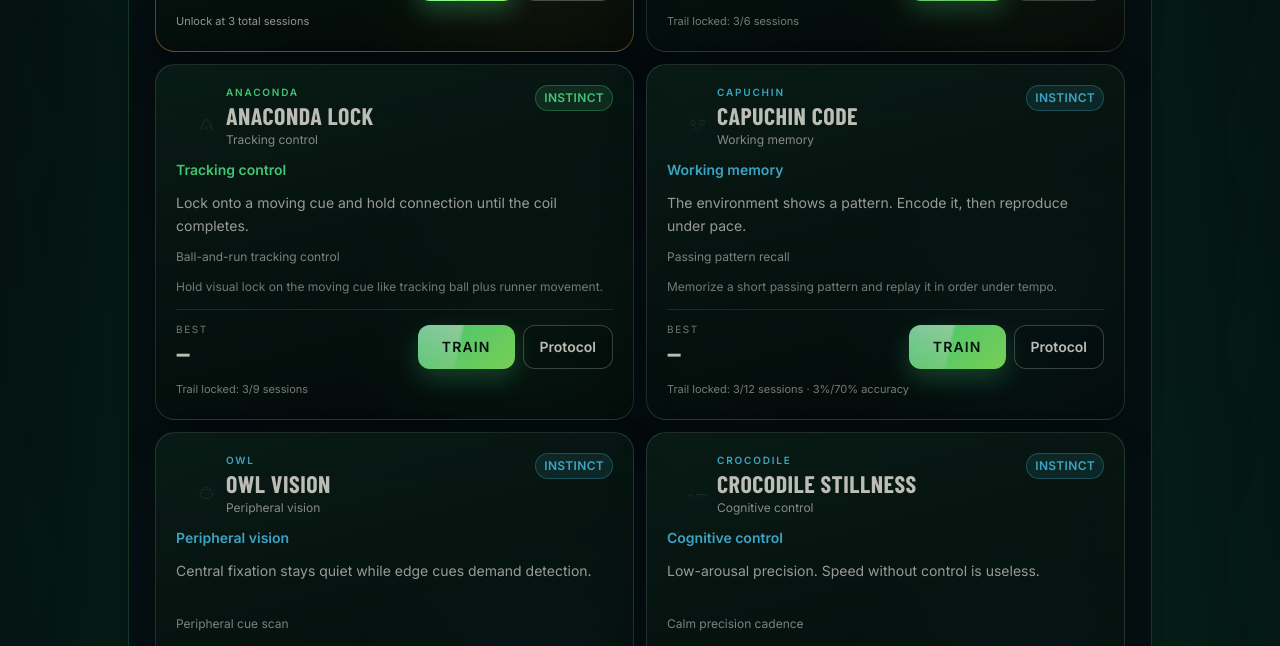
Test: App integration flow › runs Sequence Memory preview then accepts correct ordered input
(page scrolled)
Click the button "TRAIN" below "Passing pattern recall" at (957, 347), box [909,325,1006,369]
Wait 3980 ms
(page scrolled)
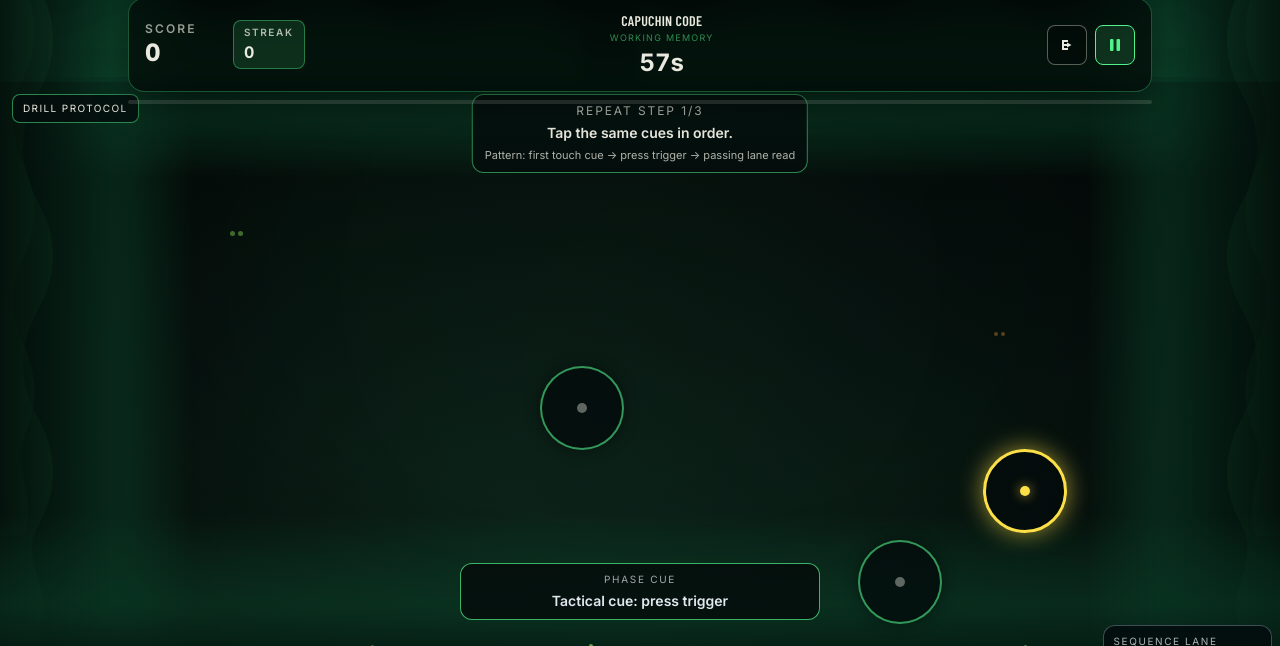
Now the button named "pause game" is shown, box [1095,25,1135,65]
Now the text "Watch sequence" is shown, box [576,103,704,118]
Now the text "Tap the same cues in order." is shown, box [547,124,733,141]
Click the 2nd button named "Sequence target" at (1025, 491), box [983,449,1067,533]
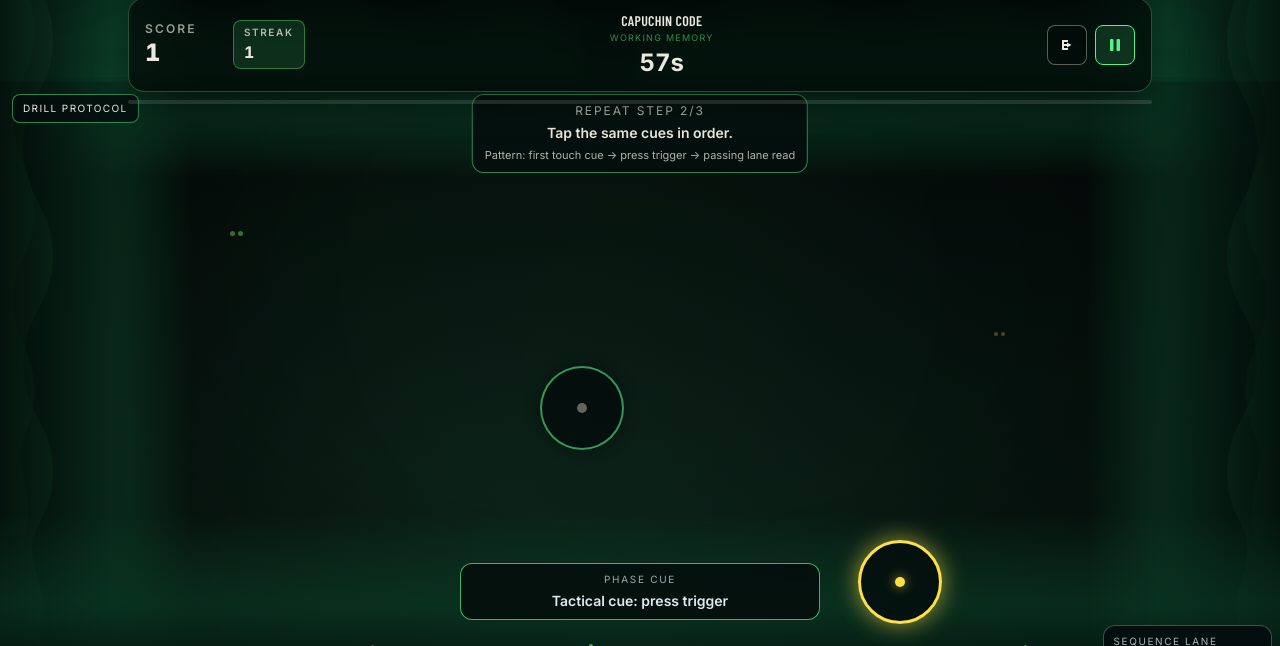
Click the 2nd button named "Sequence target" at (900, 582), box [858,540,942,624]
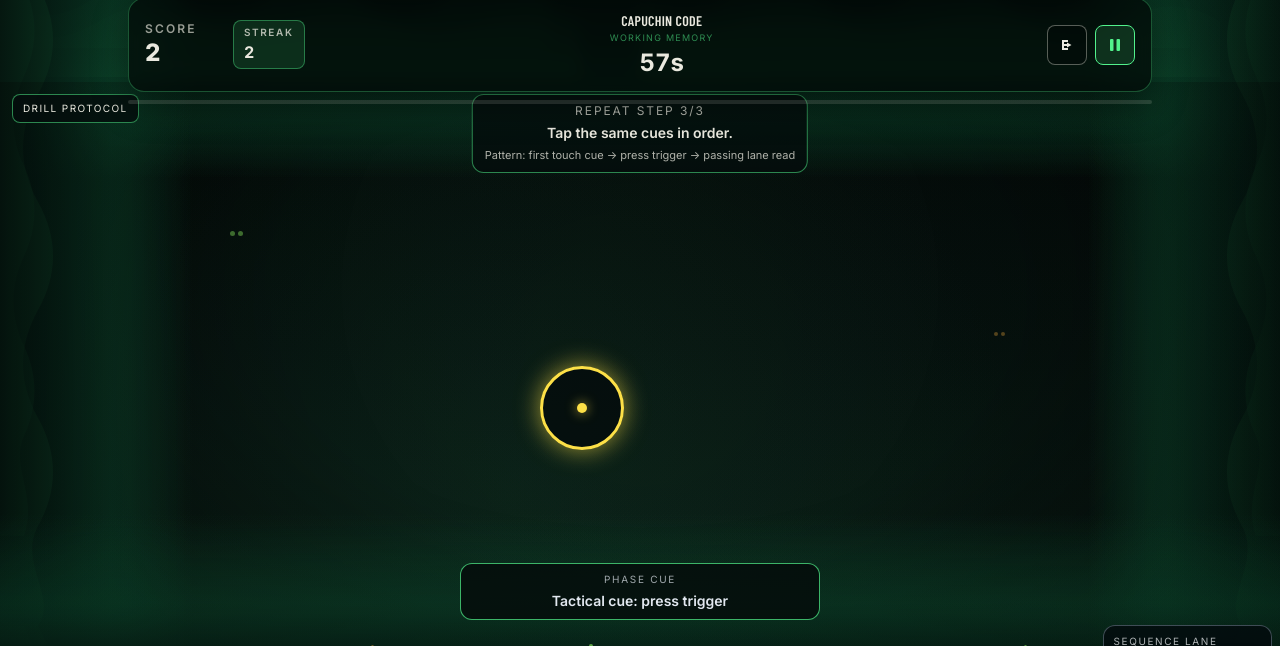
Click the button named "Sequence target" at (582, 408), box [540,366,624,450]
Wait 120 ms
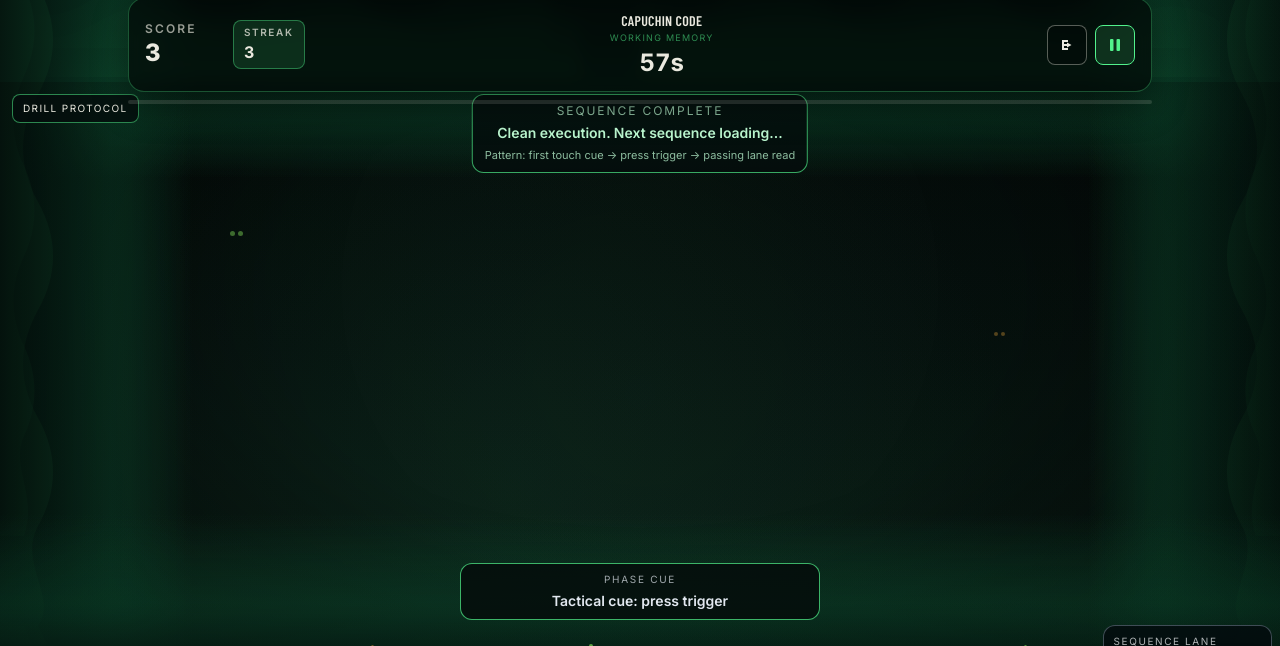
Now the element named "Current streak 3" is shown, box [233,20,304,69]
Now the text "Sequence complete" is shown, box [557,103,723,118]
